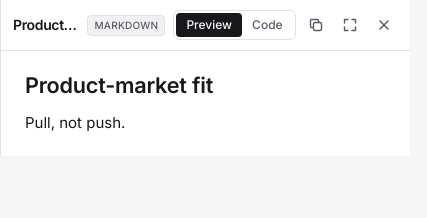
it: ArtifactViewer: controls › explains a blocked clipboard instead of failing silently
The image size is (427, 218).
Click the button named "Copy source": (316, 25) left=302, top=11, right=330, bottom=39
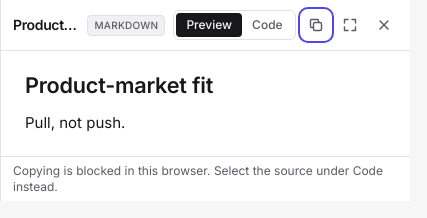
expect the text "Copying is blocked in this browser. Select the source under Code instead." is shown: met, box left=1, top=156, right=410, bottom=201
